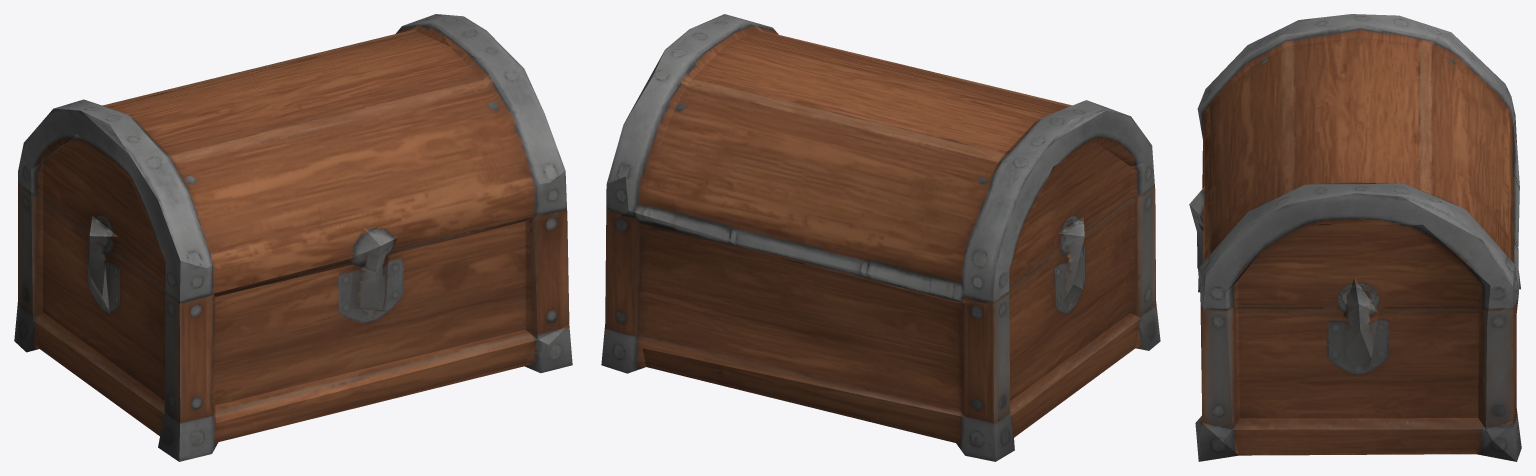
Rendered from chest_lod0.glb.
The picture shows the model from 3 angles, left to right: view 1: azimuth 30°, elevation 25°; view 2: azimuth 150°, elevation 25°; view 3: azimuth 270°, elevation 25°; orthographic projection. The views are drawn at different scales.
Visible parts, largest first — view 1: low; view 2: low; view 3: low.
Part boxes in pixels (x1,y1,x2,y2): low: [14, 14, 572, 461]; low: [601, 14, 1160, 461]; low: [1189, 14, 1521, 461].
Size of the model in its own units: 1.01 by 0.6604 by 0.739.
1 material, 1 textured.
